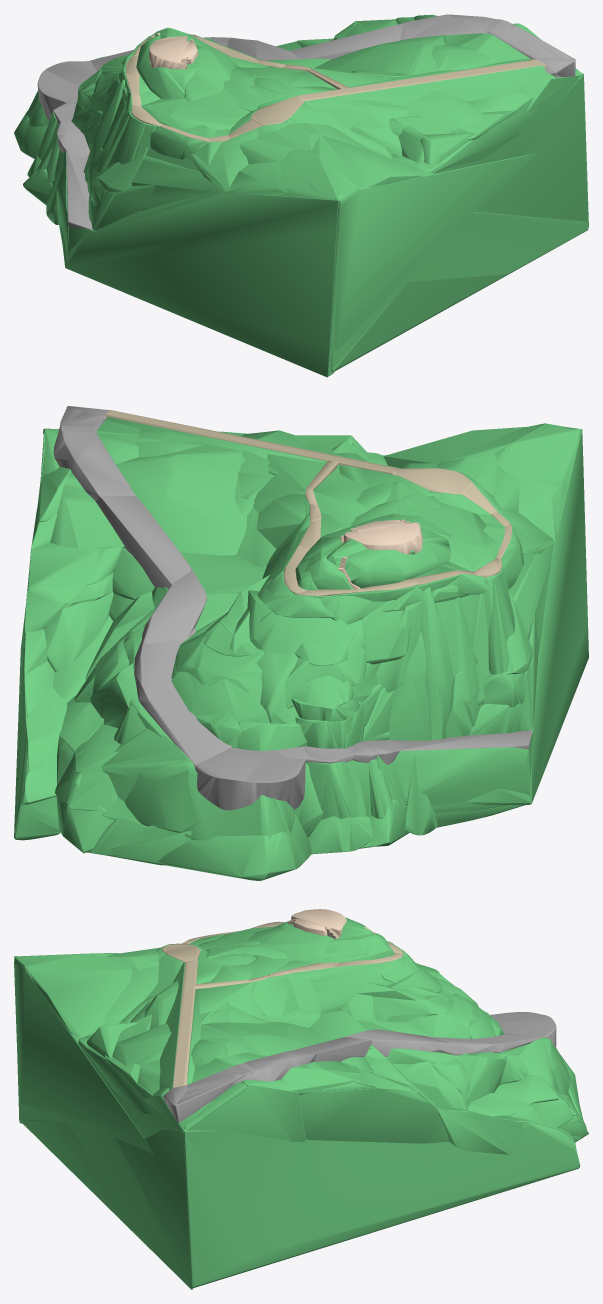
The model's file is Sutro2.fbx.
3 renders of one model, top to bottom at view 1: azimuth 30°, elevation 25°; view 2: azimuth 150°, elevation 25°; view 3: azimuth 270°, elevation 25°, orthographic. The views are drawn at different scales.
Parts seen in each view (by area): view 1: sutro_2; view 2: sutro_2; view 3: sutro_2.
Part boxes in pixels (box(x1,y1,x2,y2)): sutro_2: box(14, 14, 588, 377); sutro_2: box(14, 406, 588, 880); sutro_2: box(14, 909, 588, 1289).
Bounding box in the file's own units: 84.51 × 38.78 × 95.28.
